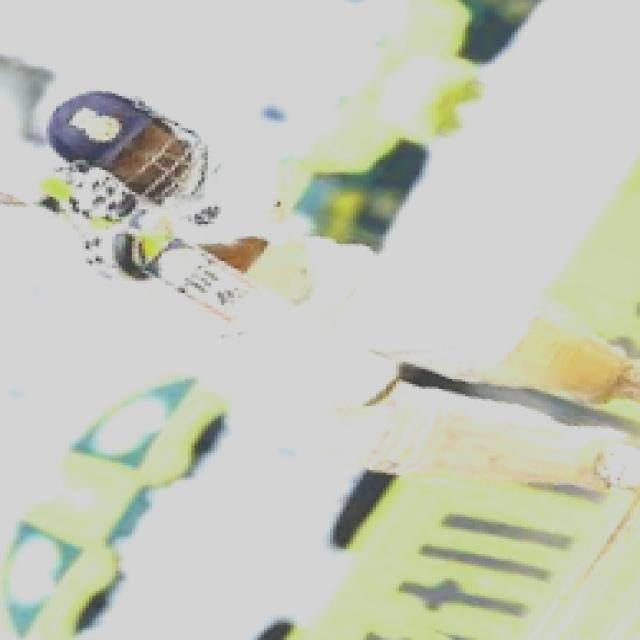toe: (320, 351, 408, 411)
